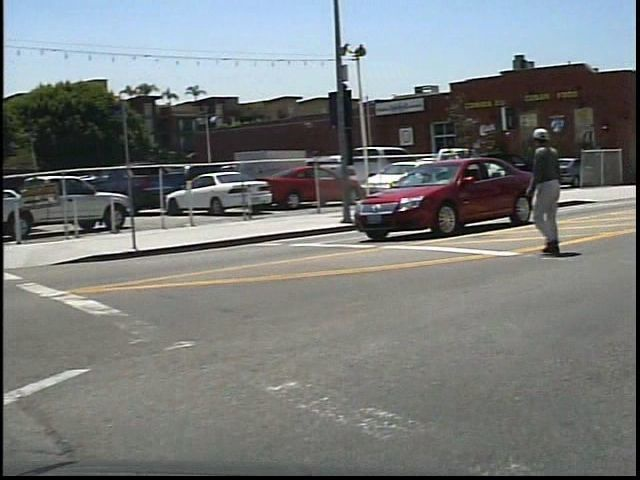person: (526, 115, 585, 261)
